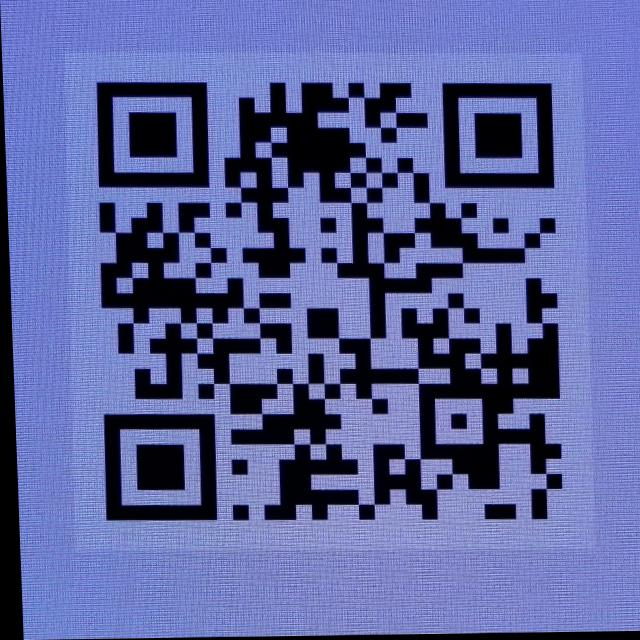QR_CODE: (64, 44, 593, 553)
